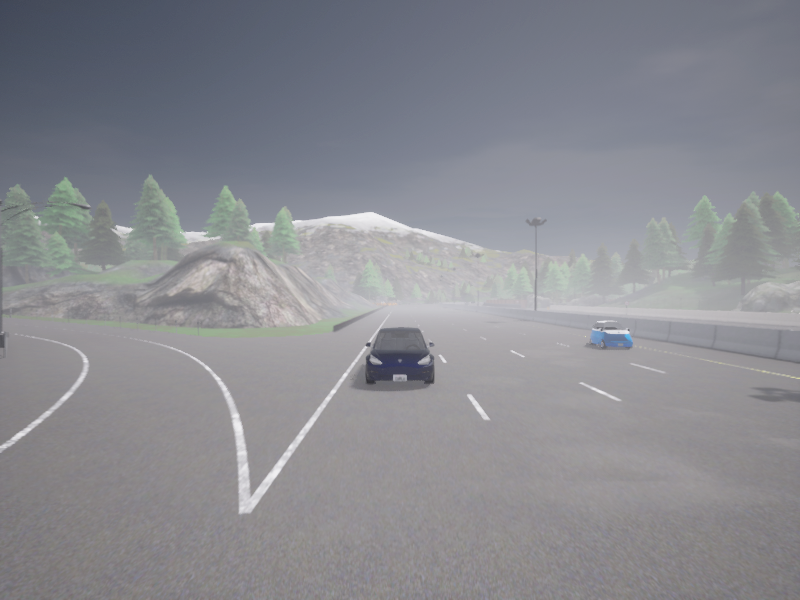vehicle: (365, 327, 434, 383), (590, 321, 632, 349), (471, 301, 476, 303), (465, 302, 468, 304)
